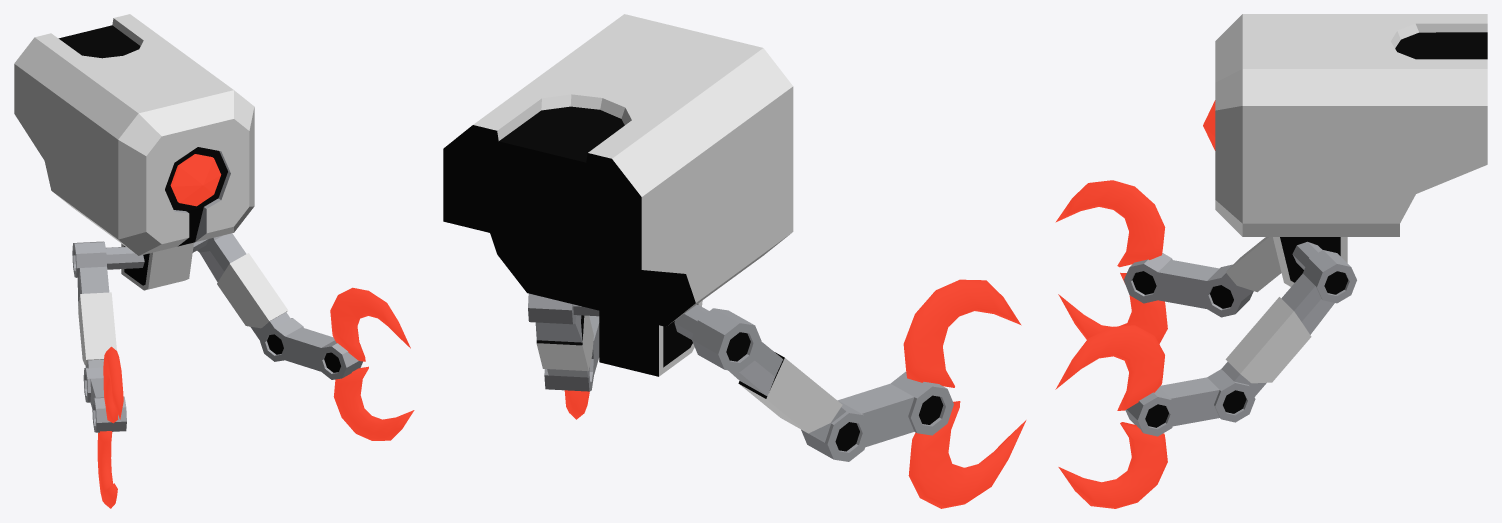
Rendered from DRON.fbx.
The picture shows the model from 3 angles, left to right: view 1: azimuth 30°, elevation 25°; view 2: azimuth 150°, elevation 25°; view 3: azimuth 270°, elevation 25°; orthographic projection. The views are drawn at different scales.
Parts seen in each view (by area): view 1: DRON; view 2: DRON; view 3: DRON.
Part boxes in pixels (x1,y1,x2,y2): DRON: (14,14,414,508); DRON: (443,14,1026,508); DRON: (1055,14,1487,508).
Size of the model in its own units: 214 by 226 by 226.
